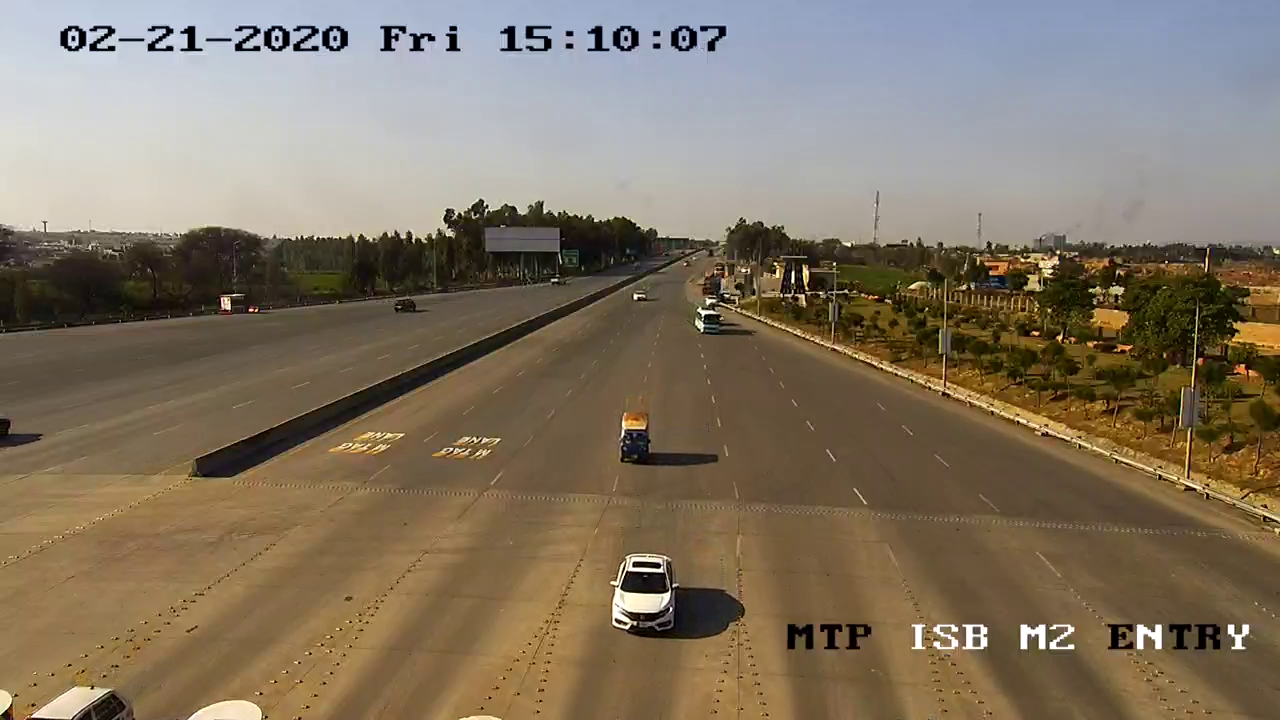f1: (606, 548, 684, 642), (611, 408, 660, 466)
